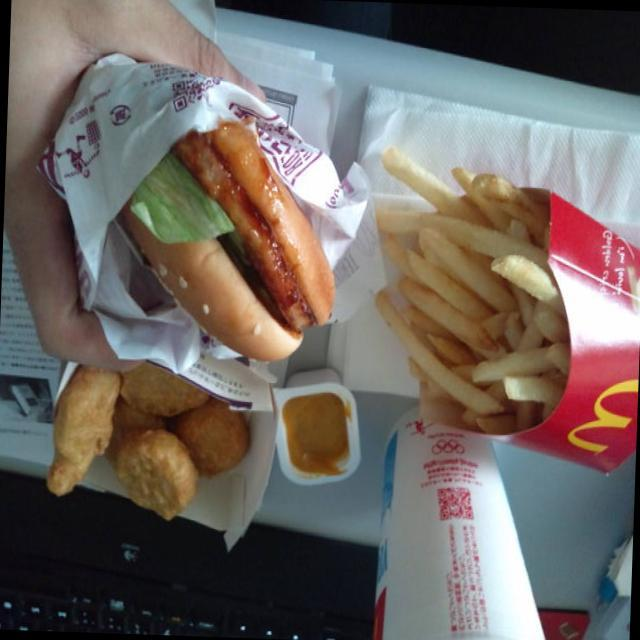French Fries: (366, 137, 578, 429)
Hamburger: (119, 124, 343, 376)
